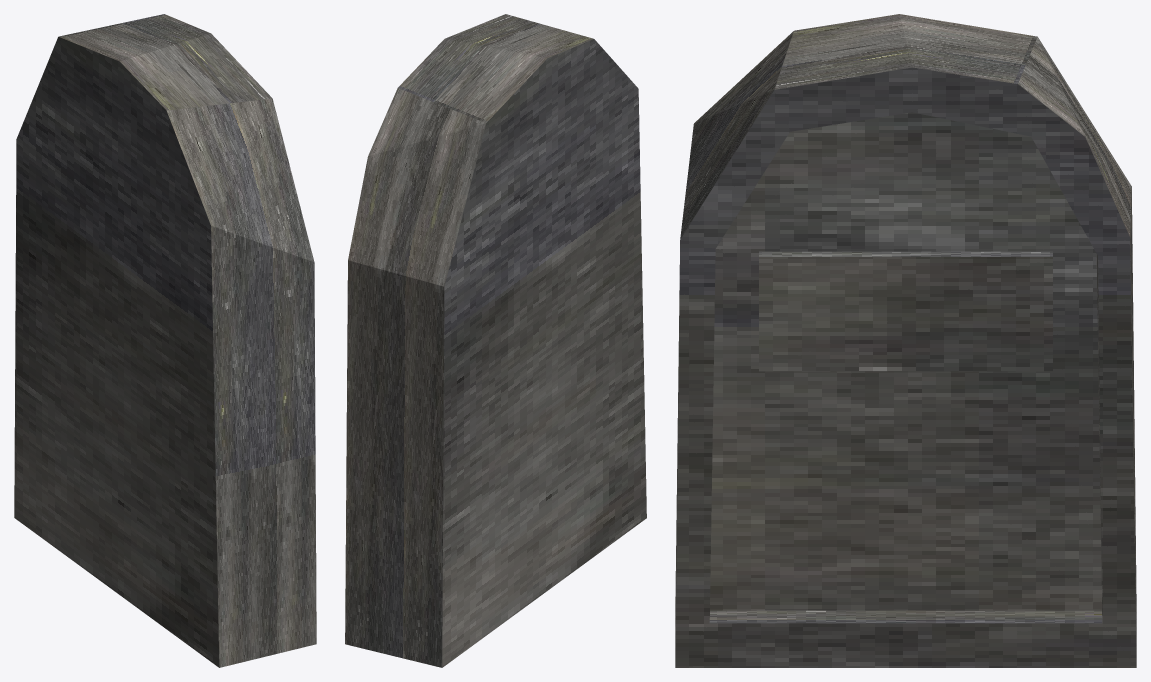
The model's file is grave.glb.
3 renders of one model, left to right at view 1: azimuth 30°, elevation 25°; view 2: azimuth 150°, elevation 25°; view 3: azimuth 270°, elevation 25°, orthographic. The views are drawn at different scales.
Visible parts, largest first — view 1: Cube.001; view 2: Cube.001; view 3: Cube.001.
Boxes of the visible parts, x1,y1,x2,y2 form: Cube.001: (14,14,316,667); Cube.001: (345,14,646,667); Cube.001: (675,14,1136,667).
Size of the model in its own units: 0.3835 by 2.01 by 1.4.
1 material, 1 textured.
